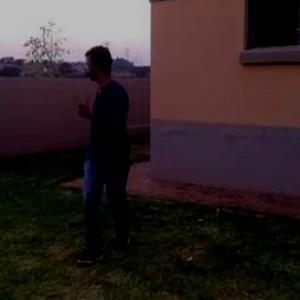takeoff-hand: (72, 86, 100, 126)
